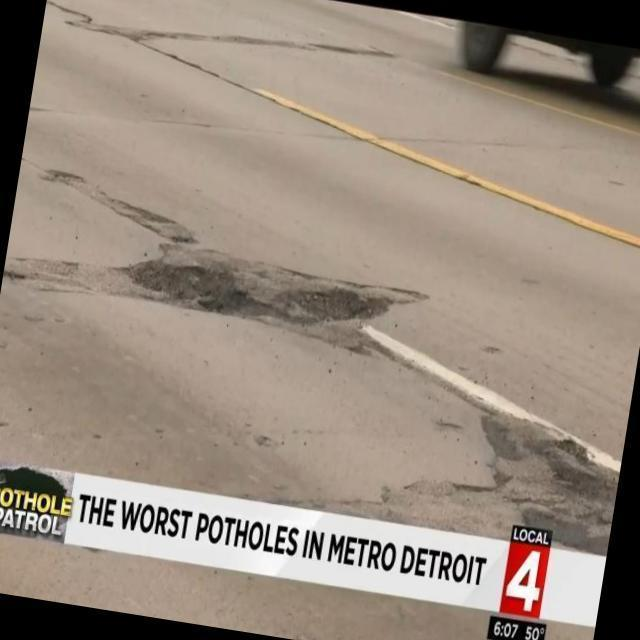Pothole: (87, 193, 405, 360), (427, 424, 613, 541)
